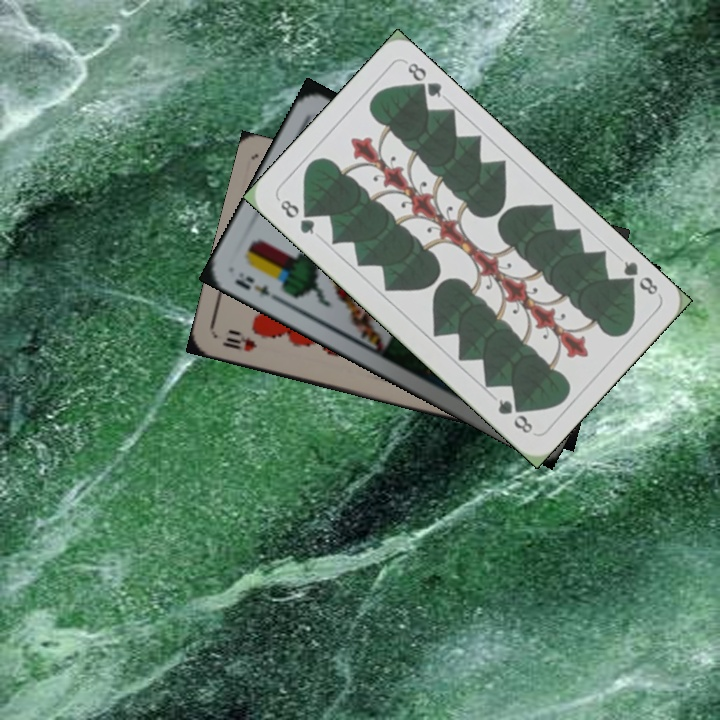EK: (230, 268, 284, 305)
G8: (275, 194, 318, 237), (617, 257, 661, 298)
H10: (218, 326, 259, 354)
